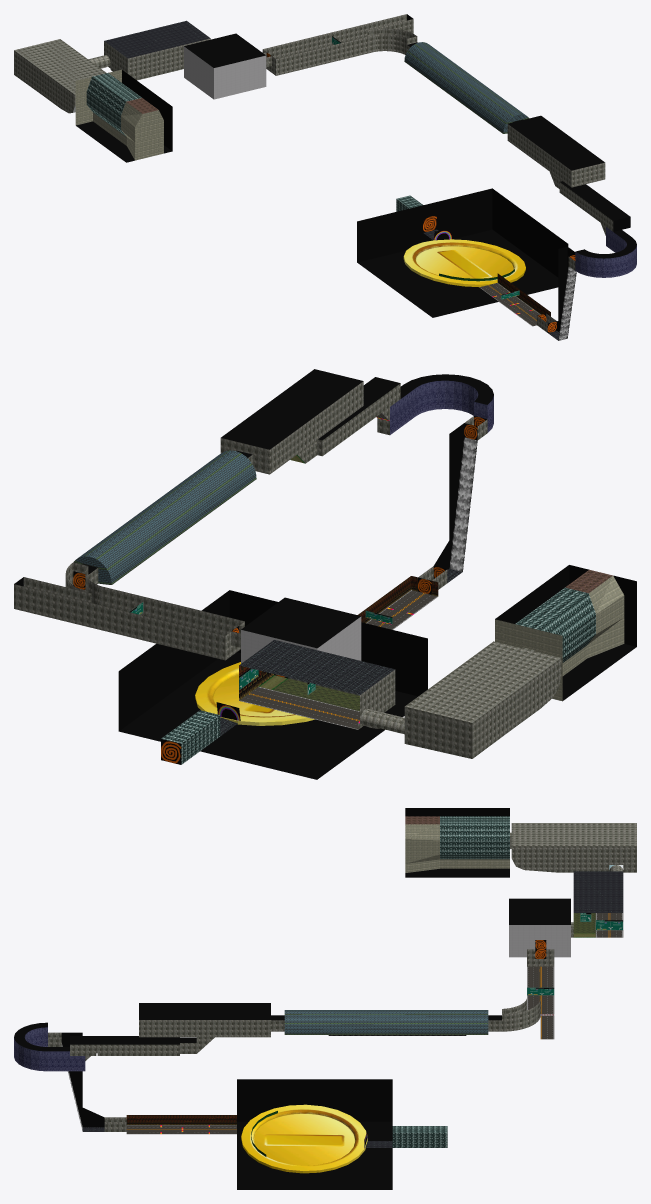
3 renders of one model, top to bottom at view 1: azimuth 30°, elevation 25°; view 2: azimuth 150°, elevation 25°; view 3: azimuth 270°, elevation 25°, orthographic. The views are drawn at different scales.
Visible parts, largest first — view 1: Sketchup_Sketchup_not.001, Sketchup_Sketchup_cliff.001, Sketchup_Sketchup_coin.001, Sketchup_Sketchup_wallCR.001, Sketchup_Sketchup_stone.001, Sketchup_Sketchup_metalttt.001, Sketchup_Sketchup_checker.001, Sketchup_Sketchup_wind.001, Sketchup_Sketchup_wallAC.001, Sketchup_Sketchup_cityroad.001, Sketchup_Sketchup_taki.001, Sketchup_Sketchup_build.001; view 2: Sketchup_Sketchup_not.001, Sketchup_Sketchup_cliff.001, Sketchup_Sketchup_wallCR.001, Sketchup_Sketchup_wind.001, Sketchup_Sketchup_checker.001, Sketchup_Sketchup_stone.001, Sketchup_Sketchup_cityroad.001, Sketchup_Sketchup_wallAC.001, Sketchup_Sketchup_coin.001, Sketchup_Sketchup_taki.001, Sketchup_Sketchup_metalttt.001, Sketchup_Sketchup_badportal.001 (+3 smaller); view 3: Sketchup_Sketchup_not.001, Sketchup_Sketchup_cliff.001, Sketchup_Sketchup_coin.001, Sketchup_Sketchup_wallCR.001, Sketchup_Sketchup_wind.001, Sketchup_Sketchup_cityroad.001, Sketchup_Sketchup_checker.001, Sketchup_Sketchup_stone.001, Sketchup_Sketchup_wallAC.001, Sketchup_Sketchup_metalttt.001, Sketchup_Sketchup_build.001, Sketchup_Sketchup_exit2.001.
Boxes of the visible parts, left/top/right/bottom form: Sketchup_Sketchup_not.001: left=76, top=14, right=636, bottom=332; Sketchup_Sketchup_cliff.001: left=14, top=14, right=613, bottom=332; Sketchup_Sketchup_coin.001: left=403, top=239, right=525, bottom=287; Sketchup_Sketchup_wallCR.001: left=404, top=42, right=529, bottom=133; Sketchup_Sketchup_stone.001: left=75, top=69, right=163, bottom=160; Sketchup_Sketchup_metalttt.001: left=184, top=46, right=266, bottom=99; Sketchup_Sketchup_checker.001: left=104, top=20, right=559, bottom=340; Sketchup_Sketchup_wind.001: left=86, top=73, right=423, bottom=211; Sketchup_Sketchup_wallAC.001: left=575, top=227, right=636, bottom=277; Sketchup_Sketchup_cityroad.001: left=479, top=283, right=540, bottom=326; Sketchup_Sketchup_taki.001: left=558, top=266, right=576, bottom=340; Sketchup_Sketchup_build.001: left=497, top=273, right=550, bottom=316; Sketchup_Sketchup_not.001: left=14, top=369, right=636, bottom=779; Sketchup_Sketchup_cliff.001: left=14, top=381, right=561, bottom=758; Sketchup_Sketchup_wallCR.001: left=74, top=450, right=256, bottom=584; Sketchup_Sketchup_wind.001: left=161, top=587, right=595, bottom=764; Sketchup_Sketchup_checker.001: left=220, top=568, right=462, bottom=735; Sketchup_Sketchup_stone.001: left=495, top=576, right=624, bottom=701; Sketchup_Sketchup_cityroad.001: left=78, top=413, right=437, bottom=729; Sketchup_Sketchup_wallAC.001: left=390, top=380, right=493, bottom=434; Sketchup_Sketchup_coin.001: left=195, top=662, right=314, bottom=725; Sketchup_Sketchup_taki.001: left=449, top=437, right=477, bottom=571; Sketchup_Sketchup_metalttt.001: left=241, top=616, right=361, bottom=663; Sketchup_Sketchup_badportal.001: left=73, top=416, right=486, bottom=764; Sketchup_Sketchup_not.001: left=14, top=808, right=570, bottom=1189; Sketchup_Sketchup_cliff.001: left=48, top=823, right=636, bottom=1131; Sketchup_Sketchup_coin.001: left=241, top=1104, right=367, bottom=1173; Sketchup_Sketchup_wallCR.001: left=284, top=1010, right=488, bottom=1034; Sketchup_Sketchup_wind.001: left=392, top=816, right=509, bottom=1147; Sketchup_Sketchup_cityroad.001: left=126, top=913, right=623, bottom=1134; Sketchup_Sketchup_checker.001: left=82, top=871, right=623, bottom=1147; Sketchup_Sketchup_stone.001: left=405, top=824, right=509, bottom=872; Sketchup_Sketchup_wallAC.001: left=14, top=1027, right=85, bottom=1071; Sketchup_Sketchup_metalttt.001: left=509, top=925, right=570, bottom=957; Sketchup_Sketchup_build.001: left=126, top=1115, right=236, bottom=1124; Sketchup_Sketchup_exit2.001: left=527, top=920, right=623, bottom=995.
Size of the model in its own units: 155592 by 80550 by 226375.
34 materials, 34 textured.
